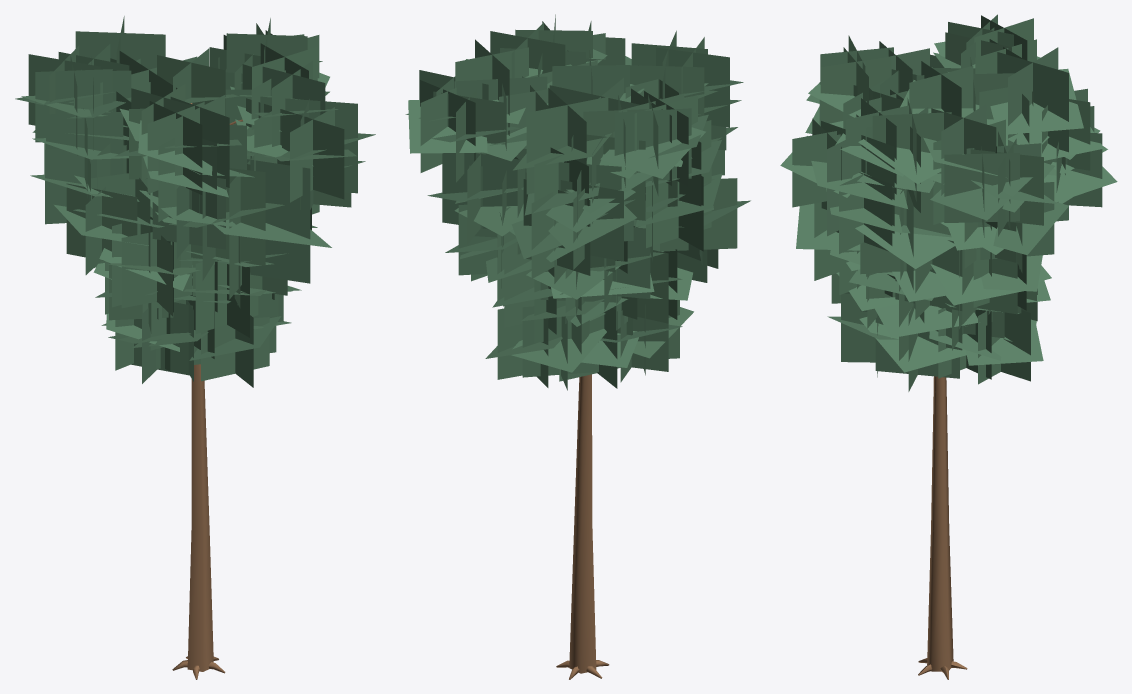
File: pin_5_f2_loin.glb
3 views of the same model, side by side, from view 1: azimuth 30°, elevation 25°; view 2: azimuth 150°, elevation 25°; view 3: azimuth 270°, elevation 25° (orthographic). The views are drawn at different scales.
Visible parts, largest first — view 1: Pin_T5_f2_Leger_Loin; view 2: Pin_T5_f2_Leger_Loin; view 3: Pin_T5_f2_Leger_Loin.
Part boxes in pixels (<box>): Pin_T5_f2_Leger_Loin: <box>15,16,375,679</box>; Pin_T5_f2_Leger_Loin: <box>405,14,750,679</box>; Pin_T5_f2_Leger_Loin: <box>780,14,1117,679</box>.
Size of the model in its own units: 11.82 by 22.61 by 11.67.
